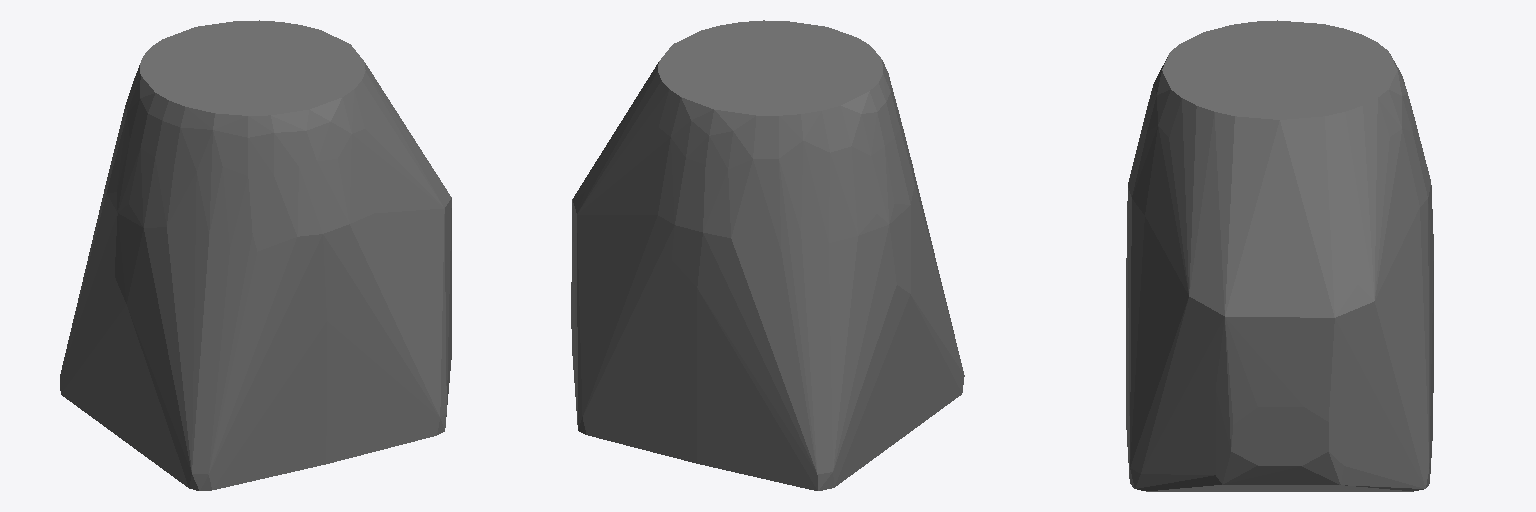
URDF robot description (robot):
<?xml version="1.0" ?>
<!-- =================================================================================== -->
<!-- |    This document was autogenerated by xacro from [local-path]/PhD/Robots/ABB/Gofa/ROS/src/abb_wrapper/robots_description/xacro/robot.urdf.xacro | -->
<!-- |    EDITING THIS FILE BY HAND IS NOT RECOMMENDED                                 | -->
<!-- =================================================================================== -->
<robot name="robot">
    <!-- Parameters -->
    <arg default="gofa" name="name" />
    <!-- World fixed joint -->
    <link name="world" />
    <!-- Robot -->
    <material name="Black">
        <color rgba="0.0 0.0 0.0 1.0" />
    </material>
    <material name="Blue">
        <color rgba="0.0 0.0 0.8 1.0" />
    </material>
    <material name="Green">
        <color rgba="0.0 0.8 0.0 1.0" />
    </material>
    <material name="Grey">
        <color rgba="0.5 0.5 0.5 1.0" />
    </material>
    <material name="Light_Grey">
        <color rgba="0.8 0.8 0.8 1.0" />
    </material>
    <material name="Ivory">
        <color rgba="1.0 1.0 0.94 1.0" />
    </material>
    <material name="Orange">
        <color rgba="1.0 0.4235294117647059 0.0392156862745098 1.0" />
    </material>
    <material name="Brown">
        <color rgba="0.8705882352941177 0.8117647058823529 0.7647058823529411 1.0" />
    </material>
    <material name="Red">
        <color rgba="0.8 0.0 0.0 1.0" />
    </material>
    <material name="White">
        <color rgba="1.0 1.0 1.0 1.0" />
    </material>
    <!-- joint between external and base -->
    <joint name="joint_0" type="fixed">
        <origin rpy="0 0 0" xyz="0 0 0" />
        <parent link="world" />
        <child link="single_yumi_base_link" />
    </joint>
    <link name="single_yumi_base_link">
        <visual>
            <origin rpy="0 0 0" xyz="0 0 0" />
            <geometry>
                <mesh filename="package://robots_description/meshes/Yumi/single_arm_base.stl" />
            </geometry>
            <material name="Grey" />
        </visual>
    </link>
    <!-- joint between body and link_1 -->
    <joint name="joint_1" type="revolute">
        <parent link="single_yumi_base_link" />
        <child link="link_1" />
        <origin rpy="0.0 0.0 3.141592653589793" xyz="0.0 0.0 0.2048" />
        <axis xyz="0 0 1" />
        <limit effort="300" lower="-2.940879789610445" upper="2.940879789610445" velocity="3.141592653589793" />
        <dynamics damping="0.5" />
    </joint>
    <link name="link_1">
        <inertial>
            <origin rpy="0 0 0" xyz="0 -0.03 0.12" />
            <mass value="2" />
            <inertia ixx="0.1" ixy="0" ixz="0" iyy="0.1" iyz="0" izz="0.1" />
        </inertial>
        <visual>
            <origin rpy="0 0 0" xyz="0 0 0" />
            <geometry>
                <mesh filename="package://robots_description/meshes/Yumi/link_1.stl" />
            </geometry>
            <material name="Grey" />
        </visual>
        <collision>
            <origin rpy="0 0 0" xyz="0 0 0" />
            <geometry>
                <mesh filename="package://robots_description/meshes/Yumi/coarse/link_1.stl" />
            </geometry>
            <material name="Grey" />
        </collision>
    </link>
    <!-- joint between link_1 and link_2 -->
    <joint name="joint_2" type="revolute">
        <parent link="link_1" />
        <child link="link_2" />
        <origin rpy="1.5707963267948966 0.0 0.0" xyz="0.03 0.0 0.1" />
        <axis xyz="0 0 1" />
        <limit effort="300" lower="-2.504547476611863" upper="0.7592182246175333" velocity="3.141592653589793" />
        <dynamics damping="0.5" />
    </joint>
    <link name="link_2">
        <inertial>
            <origin rpy="0 0 0" xyz="0 0 0" />
            <mass value="2" />
            <inertia ixx="0.1" ixy="0" ixz="0" iyy="0.1" iyz="0" izz="0.1" />
        </inertial>
        <visual>
            <origin rpy="0 0 0" xyz="0 0 0" />
            <geometry>
                <mesh filename="package://robots_description/meshes/Yumi/link_2.stl" />
            </geometry>
            <material name="Grey" />
        </visual>
        <collision>
            <origin rpy="0 0 0" xyz="0 0 0" />
            <geometry>
                <mesh filename="package://robots_description/meshes/Yumi/coarse/link_2.stl" />
            </geometry>
            <material name="Grey" />
        </collision>
    </link>
    <!-- joint between link_2 and link_3 -->
    <joint name="joint_3" type="revolute">
        <parent link="link_2" />
        <child link="link_3" />
        <origin rpy="-1.5707963267948966 0.0 0.0" xyz="-0.03 0.17283 0.0" />
        <axis xyz="0 0 1" />
        <limit effort="300" lower="-2.940879789610445" upper="2.940879789610445" velocity="3.141592653589793" />
        <dynamics damping="0.5" />
    </joint>
    <link name="link_3">
        <inertial>
            <origin rpy="0 0 0" xyz="0 0 0" />
            <mass value="2" />
            <inertia ixx="0.1" ixy="0" ixz="0" iyy="0.1" iyz="0" izz="0.1" />
        </inertial>
        <visual>
            <origin rpy="0 0 0" xyz="0 0 0" />
            <geometry>
                <mesh filename="package://robots_description/meshes/Yumi/link_3.stl" />
            </geometry>
            <material name="Grey" />
        </visual>
        <collision>
            <origin rpy="0 0 0" xyz="0 0 0" />
            <geometry>
                <mesh filename="package://robots_description/meshes/Yumi/coarse/link_3.stl" />
            </geometry>
            <material name="Grey" />
        </collision>
    </link>
    <!-- joint between link_3 and link_4 -->
    <joint name="joint_4" type="revolute">
        <parent link="link_3" />
        <child link="link_4" />
        <origin rpy="1.5707963267948966 -1.5707963267948966 0.0" xyz="-0.04188 0.0 0.07873" />
        <axis xyz="0 0 1" />
        <limit effort="300" lower="-2.155481626212997" upper="1.3962634015954636" velocity="3.141592653589793" />
        <dynamics damping="0.5" />
    </joint>
    <link name="link_4">
        <inertial>
            <origin rpy="0 0 0" xyz="0 0 0" />
            <mass value="2" />
            <inertia ixx="0.1" ixy="0" ixz="0" iyy="0.1" iyz="0" izz="0.1" />
        </inertial>
        <visual>
            <origin rpy="0 0 0" xyz="0 0 0" />
            <geometry>
                <mesh filename="package://robots_description/meshes/Yumi/link_4.stl" />
            </geometry>
            <material name="Grey" />
        </visual>
        <collision>
            <origin rpy="0 0 0" xyz="0 0 0" />
            <geometry>
                <mesh filename="package://robots_description/meshes/Yumi/coarse/link_4.stl" />
            </geometry>
            <material name="Grey" />
        </collision>
    </link>
    <!-- joint between link_4 and link_5 -->
    <joint name="joint_5" type="revolute">
        <parent link="link_4" />
        <child link="link_5" />
        <origin rpy="-1.5707963267948966 0.0 0.0" xyz="0.0405 0.16461 0.0" />
        <axis xyz="0 0 1" />
        <limit effort="300" lower="-5.061454830783555" upper="5.061454830783555" velocity="6.981317007977318" />
        <dynamics damping="0.5" />
    </joint>
    <link name="link_5">
        <inertial>
            <origin rpy="0 0 0" xyz="0 0 0" />
            <mass value="2" />
            <inertia ixx="0.1" ixy="0" ixz="0" iyy="0.1" iyz="0" izz="0.1" />
        </inertial>
        <visual>
            <origin rpy="0 0 0" xyz="0 0 0" />
            <geometry>
                <mesh filename="package://robots_description/meshes/Yumi/link_5.stl" />
            </geometry>
            <material name="Grey" />
        </visual>
        <collision>
            <origin rpy="0 0 0" xyz="0 0 0" />
            <geometry>
                <mesh filename="package://robots_description/meshes/Yumi/coarse/link_5.stl" />
            </geometry>
            <material name="Grey" />
        </collision>
    </link>
    <!-- joint between link_5 and link_6 -->
    <joint name="joint_6" type="revolute">
        <parent link="link_5" />
        <child link="link_6" />
        <origin rpy="1.5707963267948966 0.0 0.0" xyz="-0.027 0 0.10039" />
        <axis xyz="0 0 1" />
        <limit effort="300" lower="-1.53588974175501" upper="2.4085543677521746" velocity="6.981317007977318" />
        <dynamics damping="0.5" />
    </joint>
    <link name="link_6">
        <inertial>
            <origin rpy="0 0 0" xyz="0 0 0" />
            <mass value="2" />
            <inertia ixx="0.1" ixy="0" ixz="0" iyy="0.1" iyz="0" izz="0.1" />
        </inertial>
        <visual>
            <origin rpy="0 0 0" xyz="0 0 0" />
            <geometry>
                <mesh filename="package://robots_description/meshes/Yumi/link_6.stl" />
            </geometry>
            <material name="Grey" />
        </visual>
        <collision>
            <origin rpy="0 0 0" xyz="0 0 0" />
            <geometry>
                <mesh filename="package://robots_description/meshes/Yumi/coarse/link_6.stl" />
            </geometry>
            <material name="Grey" />
        </collision>
    </link>
    <!-- joint between link_6 and link_7 -->
    <joint name="joint_7" type="revolute">
        <parent link="link_6" />
        <child link="link_7" />
        <origin rpy="-1.5707963267948966 0.0 0.0" xyz="0.027 0.029 0.0" />
        <axis xyz="0 0 1" />
        <limit effort="300" lower="-3.9968039870670142" upper="3.9968039870670142" velocity="6.981317007977318" />
        <dynamics damping="0.5" />
    </joint>
    <link name="link_7">
        <inertial>
            <origin rpy="0 0 0" xyz="0 0 0" />
            <mass value="2" />
            <inertia ixx="0.1" ixy="0" ixz="0" iyy="0.1" iyz="0" izz="0.1" />
        </inertial>
        <visual>
            <origin rpy="0 0 0" xyz="0 0 0" />
            <geometry>
                <mesh filename="package://robots_description/meshes/Yumi/link_7.stl" />
            </geometry>
            <material name="Grey" />
        </visual>
        <collision>
            <origin rpy="0 0 0" xyz="0 0 0" />
            <geometry>
                <mesh filename="package://robots_description/meshes/Yumi/coarse/link_7.stl" />
            </geometry>
            <material name="Grey" />
        </collision>
    </link>
    <!-- Gazebo reference frame -->
    <gazebo reference="single_arm_base_link">
        <material>Gazebo/Ivory</material>
        <mu1>0.2</mu1>
        <mu2>0.2</mu2>
        <plugin name="gazebo_ros_control">
            <robotNamespace>/</robotNamespace>
        </plugin>
    </gazebo>
    <transmission name="single_arm_tran_1">
        <type>transmission_interface/SimpleTransmission</type>
        <joint name="single_arm_joint_1">
            <hardwareInterface>PositionJointInterface</hardwareInterface>
        </joint>
        <actuator name="single_arm_motor_1">
            <hardwareInterface>PositionJointInterface</hardwareInterface>
            <mechanicalReduction>1</mechanicalReduction>
        </actuator>
    </transmission>
    <transmission name="single_arm_tran_2">
        <type>transmission_interface/SimpleTransmission</type>
        <joint name="single_arm_joint_2">
            <hardwareInterface>PositionJointInterface</hardwareInterface>
        </joint>
        <actuator name="single_arm_motor_2">
            <hardwareInterface>PositionJointInterface</hardwareInterface>
            <mechanicalReduction>1</mechanicalReduction>
        </actuator>
    </transmission>
    <transmission name="single_arm_tran_3">
        <type>transmission_interface/SimpleTransmission</type>
        <joint name="single_arm_joint_3">
            <hardwareInterface>PositionJointInterface</hardwareInterface>
        </joint>
        <actuator name="single_arm_motor_3">
            <hardwareInterface>PositionJointInterface</hardwareInterface>
            <mechanicalReduction>1</mechanicalReduction>
        </actuator>
    </transmission>
    <transmission name="single_arm_tran_4">
        <type>transmission_interface/SimpleTransmission</type>
        <joint name="single_arm_joint_4">
            <hardwareInterface>PositionJointInterface</hardwareInterface>
        </joint>
        <actuator name="single_arm_motor_4">
            <hardwareInterface>PositionJointInterface</hardwareInterface>
            <mechanicalReduction>1</mechanicalReduction>
        </actuator>
    </transmission>
    <transmission name="single_arm_tran_5">
        <type>transmission_interface/SimpleTransmission</type>
        <joint name="single_arm_joint_5">
            <hardwareInterface>PositionJointInterface</hardwareInterface>
        </joint>
        <actuator name="single_arm_motor_5">
            <hardwareInterface>PositionJointInterface</hardwareInterface>
            <mechanicalReduction>1</mechanicalReduction>
        </actuator>
    </transmission>
    <transmission name="single_arm_tran_6">
        <type>transmission_interface/SimpleTransmission</type>
        <joint name="single_arm_joint_6">
            <hardwareInterface>PositionJointInterface</hardwareInterface>
        </joint>
        <actuator name="single_arm_motor_6">
            <hardwareInterface>PositionJointInterface</hardwareInterface>
            <mechanicalReduction>1</mechanicalReduction>
        </actuator>
    </transmission>
    <transmission name="single_arm_tran_7">
        <type>transmission_interface/SimpleTransmission</type>
        <joint name="single_arm_joint_7">
            <hardwareInterface>PositionJointInterface</hardwareInterface>
        </joint>
        <actuator name="single_arm_motor_7">
            <hardwareInterface>PositionJointInterface</hardwareInterface>
            <mechanicalReduction>1</mechanicalReduction>
        </actuator>
    </transmission>
    <!--joint
      between {parent} and base-->
    <joint name="link_7_joint" type="fixed">
        <origin rpy="0 0 3.141592653589793" xyz="0 0 0.007" />
        <parent link="link_7" />
        <child link="gripper_base" />
    </joint>
    <link name="gripper_base">
        <inertial>
            <origin rpy="0 0 0" xyz="0 0 0" />
            <mass value="0.2" />
            <inertia ixx="0.0001" ixy="0" ixz="0" iyy="0.0001" iyz="0" izz="0.0001" />
        </inertial>
        <visual>
            <origin rpy="0 0 0" xyz="0 0 0" />
            <geometry>
                <mesh filename="package://robots_description/meshes/Yumi/gripper/base.stl" />
            </geometry>
            <material name="Light_Grey" />
        </visual>
        <collision>
            <origin rpy="0 0 0" xyz="0 0 0" />
            <geometry>
                <mesh filename="package://robots_description/meshes/Yumi/gripper/coarse/base.stl" />
            </geometry>
            <material name="Light_Grey" />
        </collision>
    </link>
    <!-- joint between base and right finger -->
    <joint name="gripper_joint" type="prismatic">
        <parent link="gripper_base" />
        <child link="gripper_finger_r" />
        <origin rpy="0 0 0" xyz="0 -0.0065 0.0837" />
        <axis xyz="-1 0 0" />
        <limit effort="20" lower="0" upper="0.025" velocity="2" />
        <dynamics damping="1.0" />
    </joint>
    <link name="gripper_finger_r">
        <inertia ixx="1.666666666666667e-05" ixy="0" ixz="0" iyy="1.666666666666667e-05" iyz="0" izz="1.666666666666667e-05" />
        <visual>
            <origin rpy="0 0 0" xyz="0 0 0" />
            <geometry>
                <mesh filename="package://robots_description/meshes/Yumi/gripper/finger.stl" />
            </geometry>
            <material name="Blue" />
        </visual>
        <collision>
            <origin rpy="0 0 0" xyz="0 0 0" />
            <geometry>
                <mesh filename="package://robots_description/meshes/Yumi/gripper/coarse/finger.stl" />
            </geometry>
            <material name="Blue" />
        </collision>
        <inertial>
            <mass value="0.1" />
            <origin xyz="0 0 0" rpy="0 0 0" />
            <inertia ixx="0.03" iyy="0.03" izz="0.03" ixy="0.0" ixz="0.0" iyz="0.0" />
        </inertial>
    </link>
    <!-- joint between base and left finger -->
    <joint name="gripper_joint_m" type="prismatic">
        <parent link="gripper_base" />
        <child link="gripper_finger_l" />
        <origin rpy="0 0 3.141592653589793" xyz="0 0.0065 0.0837" />
        <axis xyz="-1 0 0" />
        <limit effort="20" lower="0" upper="0.025" velocity="2" />
        <dynamics damping="1.0" />
        <mimic joint="gripper_joint" />
    </joint>
    <link name="gripper_finger_l">
        <inertia ixx="1.666666666666667e-05" ixy="0" ixz="0" iyy="1.666666666666667e-05" iyz="0" izz="1.666666666666667e-05" />
        <visual>
            <origin rpy="0 0 0" xyz="0 0 0" />
            <geometry>
                <mesh filename="package://robots_description/meshes/Yumi/gripper/finger.stl" />
            </geometry>
            <material name="Blue" />
        </visual>
        <collision>
            <origin rpy="0 0 0" xyz="0 0 0" />
            <geometry>
                <mesh filename="package://robots_description/meshes/Yumi/gripper/coarse/finger.stl" />
            </geometry>
            <material name="Blue" />
        </collision>
        <inertial>
            <mass value="0.1" />
            <origin xyz="0 0 0" rpy="0 0 0" />
            <inertia ixx="0.03" iyy="0.03" izz="0.03" ixy="0.0" ixz="0.0" iyz="0.0" />
        </inertial>
    </link>
    <!-- Plugin for the mimic o/c joint - AFAIK, that shouldn't be necessary any more starting with Gazebo 3.0 -->
    <gazebo>
        <plugin filename="libgazebo_mimic_plugin.so" name="mimic_plugin">
            <joint>SmartGripper_joint</joint>
            <mimicJoint>SmartGripper_joint_m</mimicJoint>
            <multiplier>1.0</multiplier>
        </plugin>
    </gazebo>
    <!-- body -->
    <gazebo reference="SmartGripper_base">
        <material>Gazebo/Light_Grey</material>
        <mu1>0.2</mu1>
        <mu2>0.2</mu2>
    </gazebo>
    <transmission name="SmartGripper_tran">
        <type>transmission_interface/SimpleTransmission</type>
        <joint name="SmartGripper_joint">
            <hardwareInterface>EffortJointInterface</hardwareInterface>
        </joint>
        <actuator name="SmartGripper_motor">
            <hardwareInterface>EffortJointInterface</hardwareInterface>
            <mechanicalReduction>1</mechanicalReduction>
        </actuator>
    </transmission>
    <transmission name="trans_joint_1">
        <type>transmission_interface/SimpleTransmission</type>
        <joint name="joint_1">
            <hardwareInterface>hardware_interface/EffortJointInterface</hardwareInterface>
        </joint>
        <actuator name="joint_1_motor">
            <hardwareInterface>hardware_interface/EffortJointInterface</hardwareInterface>
            <mechanicalReduction>1</mechanicalReduction>
        </actuator>
    </transmission>
    <transmission name="trans_joint_2">
        <type>transmission_interface/SimpleTransmission</type>
        <joint name="joint_2">
            <hardwareInterface>hardware_interface/EffortJointInterface</hardwareInterface>
        </joint>
        <actuator name="joint_2_motor">
            <hardwareInterface>hardware_interface/EffortJointInterface</hardwareInterface>
            <mechanicalReduction>1</mechanicalReduction>
        </actuator>
    </transmission>
    <transmission name="trans_joint_3">
        <type>transmission_interface/SimpleTransmission</type>
        <joint name="joint_3">
            <hardwareInterface>hardware_interface/EffortJointInterface</hardwareInterface>
        </joint>
        <actuator name="joint_3_motor">
            <hardwareInterface>hardware_interface/EffortJointInterface</hardwareInterface>
            <mechanicalReduction>1</mechanicalReduction>
        </actuator>
    </transmission>
    <transmission name="trans_joint_4">
        <type>transmission_interface/SimpleTransmission</type>
        <joint name="joint_4">
            <hardwareInterface>hardware_interface/EffortJointInterface</hardwareInterface>
        </joint>
        <actuator name="joint_4_motor">
            <hardwareInterface>hardware_interface/EffortJointInterface</hardwareInterface>
            <mechanicalReduction>1</mechanicalReduction>
        </actuator>
    </transmission>
    <transmission name="trans_joint_5">
        <type>transmission_interface/SimpleTransmission</type>
        <joint name="joint_5">
            <hardwareInterface>hardware_interface/EffortJointInterface</hardwareInterface>
        </joint>
        <actuator name="joint_5_motor">
            <hardwareInterface>hardware_interface/EffortJointInterface</hardwareInterface>
            <mechanicalReduction>1</mechanicalReduction>
        </actuator>
    </transmission>
    <transmission name="trans_joint_6">
        <type>transmission_interface/SimpleTransmission</type>
        <joint name="joint_6">
            <hardwareInterface>hardware_interface/EffortJointInterface</hardwareInterface>
        </joint>
        <actuator name="joint_6_motor">
            <hardwareInterface>hardware_interface/EffortJointInterface</hardwareInterface>
            <mechanicalReduction>1</mechanicalReduction>
        </actuator>
    </transmission>
    <transmission name="trans_joint_7">
        <type>transmission_interface/SimpleTransmission</type>
        <joint name="joint_7">
            <hardwareInterface>hardware_interface/EffortJointInterface</hardwareInterface>
        </joint>
        <actuator name="joint_7_motor">
            <hardwareInterface>hardware_interface/EffortJointInterface</hardwareInterface>
            <mechanicalReduction>1</mechanicalReduction>
        </actuator>
    </transmission>
    <transmission name="trans_gripper_joint">
        <type>transmission_interface/SimpleTransmission</type>
        <joint name="gripper_joint">
            <hardwareInterface>hardware_interface/EffortJointInterface</hardwareInterface>
        </joint>
        <actuator name="gripper_joint_motor">
            <hardwareInterface>hardware_interface/EffortJointInterface</hardwareInterface>
            <mechanicalReduction>1</mechanicalReduction>
        </actuator>
    </transmission>
    <transmission name="trans_gripper_joint_m">
        <type>transmission_interface/SimpleTransmission</type>
        <joint name="gripper_joint_m">
            <hardwareInterface>hardware_interface/EffortJointInterface</hardwareInterface>
        </joint>
        <actuator name="gripper_joint_m_motor">
            <hardwareInterface>hardware_interface/EffortJointInterface</hardwareInterface>
            <mechanicalReduction>1</mechanicalReduction>
        </actuator>
    </transmission>
</robot>

--- Facts derived from the render (not from the file) ---
The picture shows the robot from 3 angles, left to right: view 1: azimuth 30°, elevation 25°; view 2: azimuth 150°, elevation 25°; view 3: azimuth 270°, elevation 25°; orthographic projection.
Model robot with 12 links and 11 joints (7 revolute, 2 prismatic, 2 fixed), rooted at world, posed every joint at zero.
Links seen in each view (by area): view 1: single_yumi_base_link; view 2: single_yumi_base_link; view 3: single_yumi_base_link.
Boxes of the visible links, x1,y1,x2,y2 form: single_yumi_base_link: [60, 20, 451, 490]; single_yumi_base_link: [571, 20, 964, 490]; single_yumi_base_link: [1126, 20, 1433, 491].
Size in the robot's own frame: 0.1938 by 0.1603 by 0.2049 metres.
1 mesh visuals loaded from 10 distinct referenced files (1 binary STL); not drawn: 10 (reference not matched to a file when rendering).